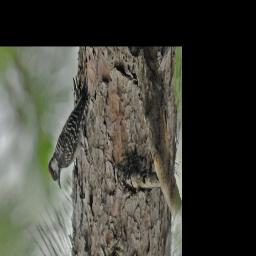Woodpecker: (48, 82, 90, 194)
